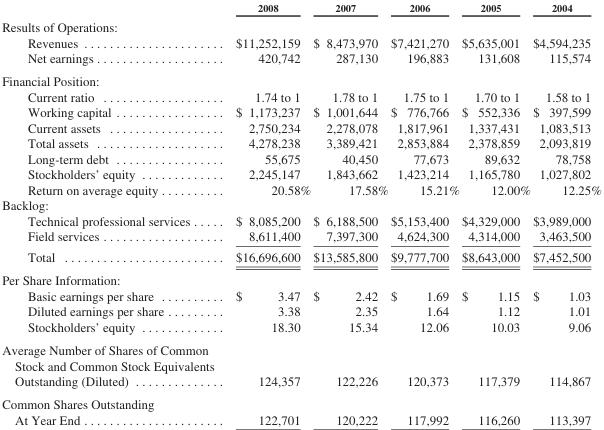table: (1, 0, 601, 426)
table column: (1, 0, 224, 426), (224, 0, 311, 426), (311, 0, 388, 426), (388, 0, 460, 426), (460, 0, 531, 426), (531, 0, 601, 426)
table column header: (1, 0, 601, 16)
table projected row header: (1, 69, 601, 88), (1, 268, 601, 287), (1, 16, 601, 34), (1, 197, 601, 212)
table row: (1, 338, 601, 392), (1, 392, 601, 426), (1, 246, 601, 268), (1, 318, 601, 338), (1, 50, 601, 69), (1, 69, 601, 88), (1, 268, 601, 287), (1, 16, 601, 34), (1, 228, 601, 246), (1, 0, 601, 16), (1, 34, 601, 50), (1, 88, 601, 104), (1, 119, 601, 135), (1, 150, 601, 166), (1, 181, 601, 197), (1, 212, 601, 228), (1, 287, 601, 303), (1, 104, 601, 119), (1, 135, 601, 150), (1, 166, 601, 181), (1, 197, 601, 212), (1, 303, 601, 318)
